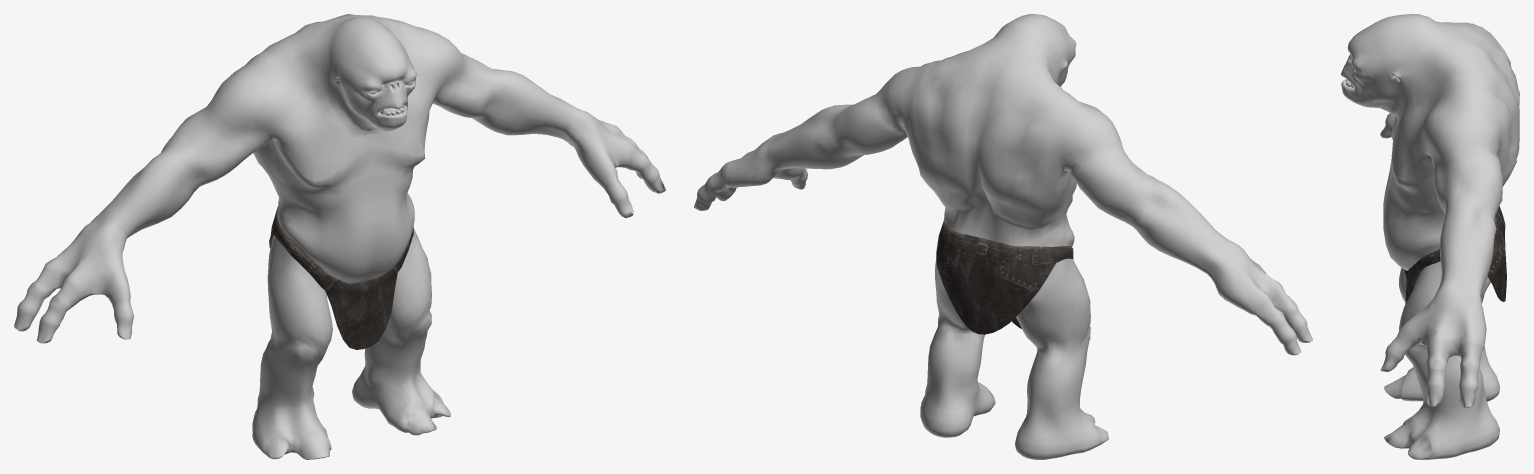
The model's file is Cavetroll2.fbx.
3 renders of one model, left to right at view 1: azimuth 30°, elevation 25°; view 2: azimuth 150°, elevation 25°; view 3: azimuth 270°, elevation 25°, orthographic. The views are drawn at different scales.
Parts seen in each view (by area): view 1: CaveTroll_Eye_low_Sphere, CaveTroll_Pants_low_Mesh.002; view 2: CaveTroll_Eye_low_Sphere, CaveTroll_Pants_low_Mesh.002; view 3: CaveTroll_Eye_low_Sphere, CaveTroll_Pants_low_Mesh.002.
Boxes of the visible parts, x1,y1,x2,y2 form: CaveTroll_Eye_low_Sphere: (14,14,665,459); CaveTroll_Pants_low_Mesh.002: (269,206,413,349); CaveTroll_Eye_low_Sphere: (694,14,1312,459); CaveTroll_Pants_low_Mesh.002: (936,220,1073,334); CaveTroll_Eye_low_Sphere: (1341,14,1519,459); CaveTroll_Pants_low_Mesh.002: (1404,206,1506,303).
Bounding box in the file's own units: 860 × 541 × 218.
